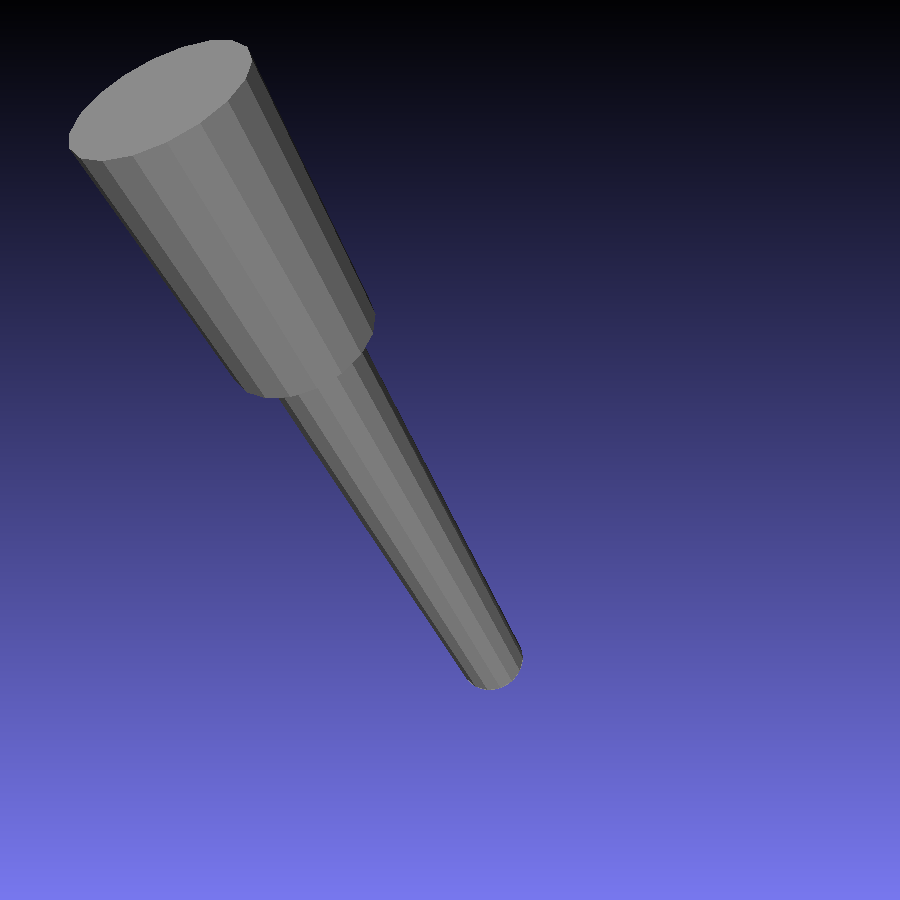cargo_g: (68, 39, 525, 688)
